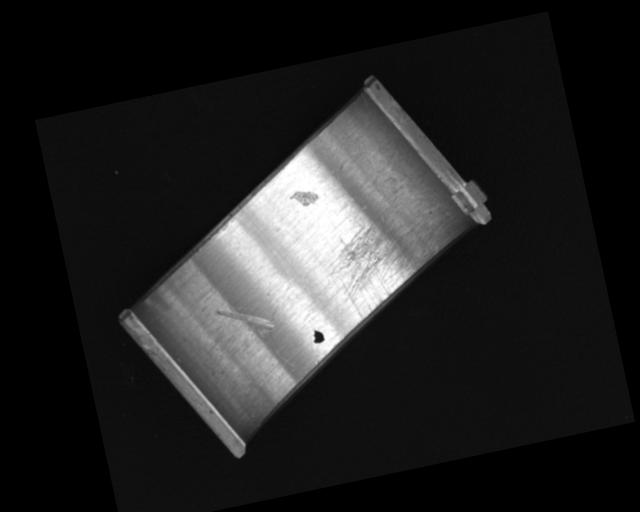blot: (310, 328, 326, 345)
bruise: (288, 187, 321, 210)
nick: (216, 299, 275, 338), (264, 300, 296, 371)
scratch: (316, 210, 442, 326)
